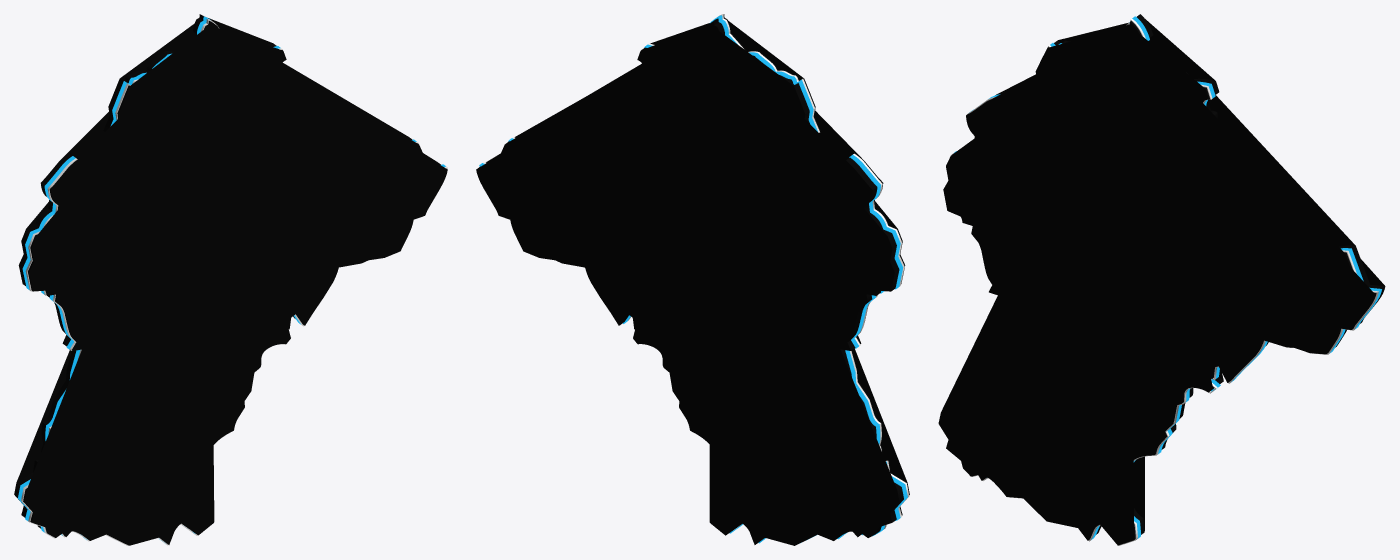
Rendered from 南网地图.fbx.
The picture shows the model from 3 angles, left to right: view 1: azimuth 30°, elevation 25°; view 2: azimuth 150°, elevation 25°; view 3: azimuth 330°, elevation 25°; orthographic projection. The views are drawn at different scales.
Parts seen in each view (by area): view 1: 封顶_1_13, 封顶_2_13, 南网透明地图, 扫描, 扫描_2; view 2: 封顶_2_13, 封顶_1_13, 南网透明地图, 扫描, 扫描_2; view 3: 封顶_1_13, 封顶_2_13, 南网透明地图, 扫描, 扫描_2.
Part boxes in pixels (box(x1,y1,x2,y2)): 封顶_1_13: box(24, 21, 447, 545); 封顶_2_13: box(16, 18, 436, 482); 南网透明地图: box(14, 14, 440, 543); 扫描: box(18, 16, 445, 541); 扫描_2: box(21, 19, 447, 545); 封顶_2_13: box(476, 21, 899, 545); 封顶_1_13: box(486, 21, 907, 482); 南网透明地图: box(479, 14, 909, 543); 扫描: box(479, 15, 907, 543); 扫描_2: box(482, 14, 909, 536); 封顶_1_13: box(938, 22, 1374, 545); 封顶_2_13: box(1001, 19, 1384, 528); 南网透明地图: box(967, 14, 1385, 540); 扫描: box(954, 16, 1381, 539); 扫描_2: box(951, 19, 1378, 545).
Size of the model in its own units: 1177 by 1365 by 49.1.
